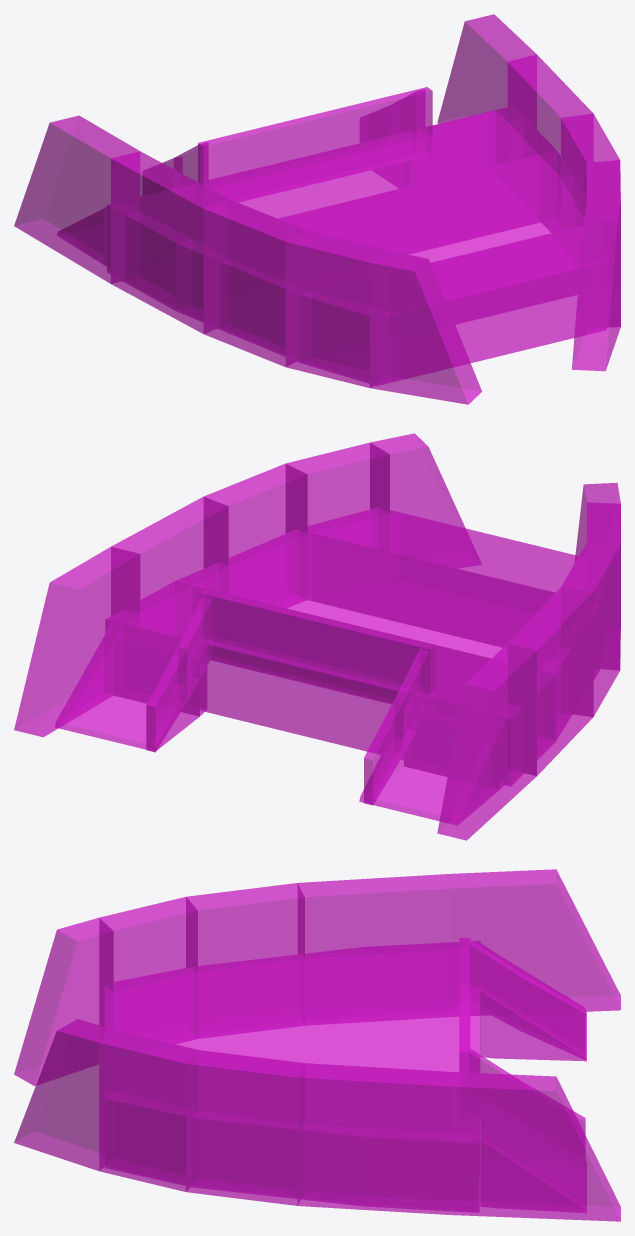
Rendered from SM_Veh_Ship_L_Front_02_Collision.fbx.
3 views of the same model, one above another, from view 1: azimuth 30°, elevation 25°; view 2: azimuth 150°, elevation 25°; view 3: azimuth 270°, elevation 25° (orthographic). The views are drawn at different scales.
Visible parts, largest first — view 1: SM_Veh_Ship_L_Front_02_Collision; view 2: SM_Veh_Ship_L_Front_02_Collision; view 3: SM_Veh_Ship_L_Front_02_Collision.
Boxes of the visible parts, x1=… form: SM_Veh_Ship_L_Front_02_Collision: x1=14, y1=14, x2=620, y2=404; SM_Veh_Ship_L_Front_02_Collision: x1=14, y1=433, x2=620, y2=840; SM_Veh_Ship_L_Front_02_Collision: x1=14, y1=869, x2=620, y2=1221.
Bounding box in the file's own units: 1029 × 283 × 1168.
